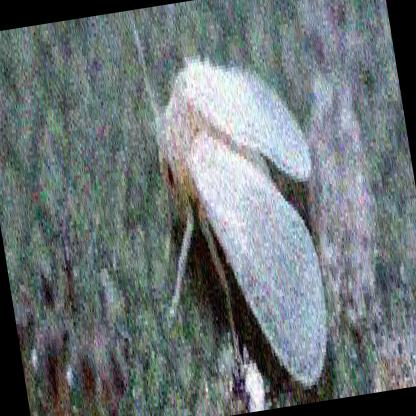whitefly: (155, 58, 329, 388)
